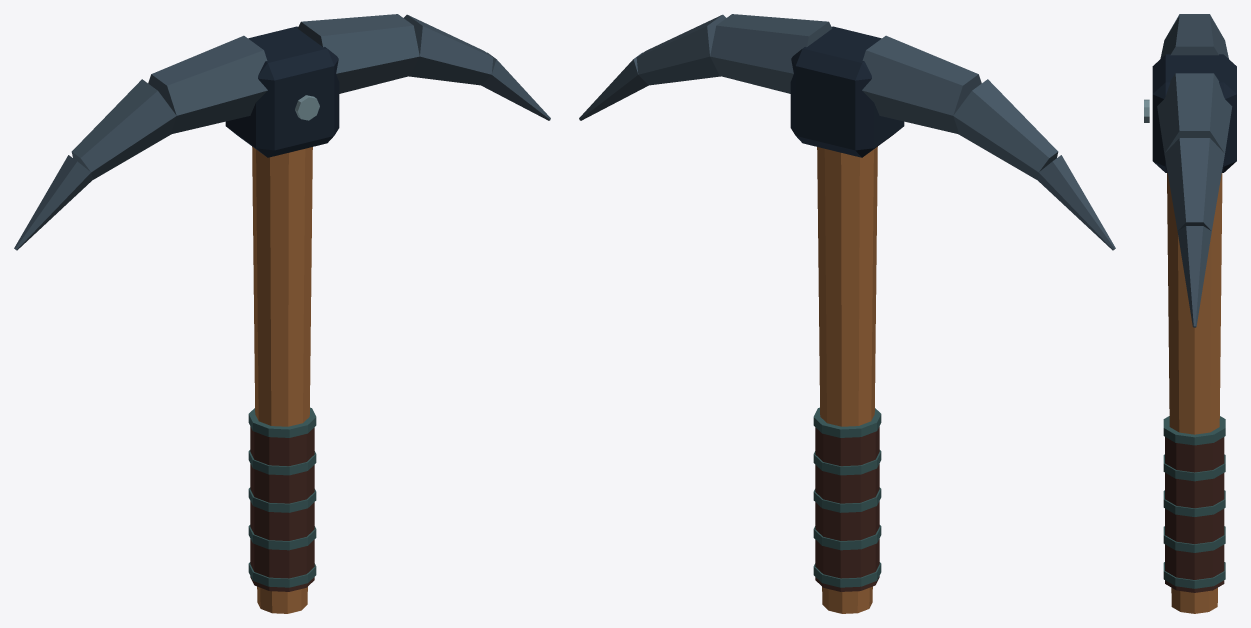
The model's file is Stone_Pickaxe.gltf.
3 renders of one model, left to right at view 1: azimuth 30°, elevation 25°; view 2: azimuth 150°, elevation 25°; view 3: azimuth 270°, elevation 25°, orthographic. The views are drawn at different scales.
Parts seen in each view (by area): view 1: Oak_Handle_0, Head_Socket_7, Leather_Grip_1, Tapered_Pick_Tine_8, Tapered_Pick_Tine_11, Tapered_Pick_Tine_9, Tapered_Pick_Tine_12, Tapered_Pick_Tine_10, Tapered_Pick_Tine_13, Grip_Binding_6, Grip_Binding_2, Grip_Binding_5; view 2: Oak_Handle_0, Head_Socket_7, Leather_Grip_1, Tapered_Pick_Tine_8, Tapered_Pick_Tine_11, Tapered_Pick_Tine_9, Tapered_Pick_Tine_12, Tapered_Pick_Tine_10, Tapered_Pick_Tine_13, Grip_Binding_6, Grip_Binding_2, Grip_Binding_5; view 3: Oak_Handle_0, Leather_Grip_1, Tapered_Pick_Tine_11, Tapered_Pick_Tine_12, Head_Socket_7, Tapered_Pick_Tine_8, Tapered_Pick_Tine_13, Grip_Binding_6, Grip_Binding_2, Grip_Binding_5, Grip_Binding_3, Grip_Binding_4.
Boxes of the visible parts, bbox=[...] form: Oak_Handle_0: bbox=[252, 146, 312, 613]; Head_Socket_7: bbox=[225, 26, 339, 157]; Leather_Grip_1: bbox=[250, 426, 314, 591]; Tapered_Pick_Tine_8: bbox=[148, 35, 267, 134]; Tapered_Pick_Tine_11: bbox=[297, 14, 419, 93]; Tapered_Pick_Tine_9: bbox=[71, 79, 176, 179]; Tapered_Pick_Tine_12: bbox=[404, 14, 493, 85]; Tapered_Pick_Tine_10: bbox=[14, 155, 92, 250]; Tapered_Pick_Tine_13: bbox=[481, 52, 550, 120]; Grip_Binding_6: bbox=[248, 407, 316, 437]; Grip_Binding_2: bbox=[248, 562, 316, 587]; Grip_Binding_5: bbox=[248, 450, 316, 475]; Oak_Handle_0: bbox=[817, 146, 877, 613]; Head_Socket_7: bbox=[790, 26, 904, 157]; Leather_Grip_1: bbox=[815, 426, 879, 591]; Tapered_Pick_Tine_8: bbox=[862, 35, 981, 134]; Tapered_Pick_Tine_11: bbox=[710, 14, 832, 93]; Tapered_Pick_Tine_9: bbox=[953, 79, 1058, 179]; Tapered_Pick_Tine_12: bbox=[636, 14, 725, 85]; Tapered_Pick_Tine_10: bbox=[1037, 155, 1115, 250]; Tapered_Pick_Tine_13: bbox=[579, 52, 648, 120]; Grip_Binding_6: bbox=[813, 407, 881, 437]; Grip_Binding_2: bbox=[813, 562, 881, 587]; Grip_Binding_5: bbox=[813, 450, 881, 475]; Oak_Handle_0: bbox=[1167, 173, 1222, 613]; Leather_Grip_1: bbox=[1165, 437, 1224, 592]; Tapered_Pick_Tine_11: bbox=[1157, 73, 1232, 153]; Tapered_Pick_Tine_12: bbox=[1164, 138, 1224, 230]; Head_Socket_7: bbox=[1152, 54, 1236, 172]; Tapered_Pick_Tine_8: bbox=[1160, 15, 1228, 58]; Tapered_Pick_Tine_13: bbox=[1177, 226, 1211, 327]; Grip_Binding_6: bbox=[1163, 416, 1225, 445]; Grip_Binding_2: bbox=[1163, 562, 1225, 588]; Grip_Binding_5: bbox=[1163, 454, 1225, 481]; Grip_Binding_3: bbox=[1163, 526, 1225, 552]; Grip_Binding_4: bbox=[1163, 490, 1225, 516].
Bounding box in the file's own units: 2.25 × 2.28 × 0.352.
